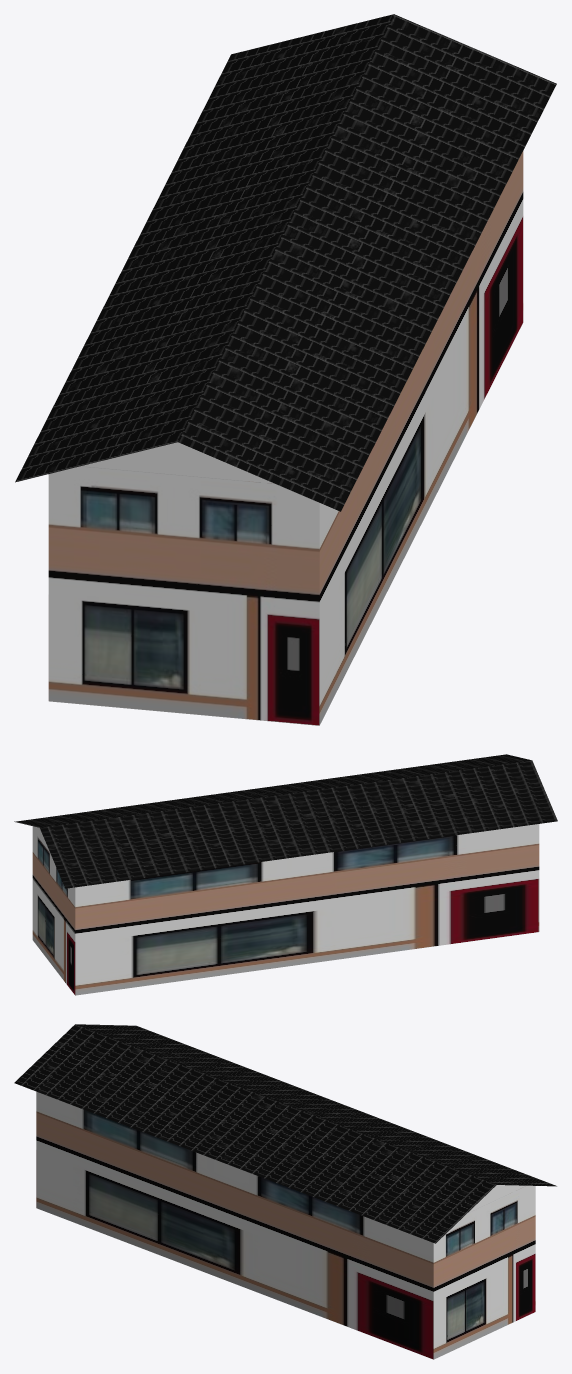
The picture shows the model from 3 angles, top to bottom: view 1: azimuth 30°, elevation 25°; view 2: azimuth 150°, elevation 25°; view 3: azimuth 270°, elevation 25°; orthographic projection. The views are drawn at different scales.
Visible parts, largest first — view 1: CityEngineMaterial_14_m, CityEngineMaterial_5_m, CityEngineMaterial_3_m; view 2: CityEngineMaterial_5_m, CityEngineMaterial_14_m; view 3: CityEngineMaterial_5_m, CityEngineMaterial_14_m, CityEngineMaterial_3_m.
Part boxes in pixels (x1=…): CityEngineMaterial_14_m: x1=15, y1=14, x2=556, y2=511; CityEngineMaterial_5_m: x1=48, y1=151, x2=523, y2=725; CityEngineMaterial_3_m: x1=81, y1=442, x2=274, y2=483; CityEngineMaterial_5_m: x1=32, y1=824, x2=539, y2=995; CityEngineMaterial_14_m: x1=14, y1=754, x2=557, y2=888; CityEngineMaterial_5_m: x1=36, y1=1091, x2=535, y2=1359; CityEngineMaterial_14_m: x1=14, y1=1024, x2=556, y2=1243; CityEngineMaterial_3_m: x1=467, y1=1185, x2=525, y2=1213.
Bounding box in the file's own units: 31.53 × 10.49 × 33.24.
